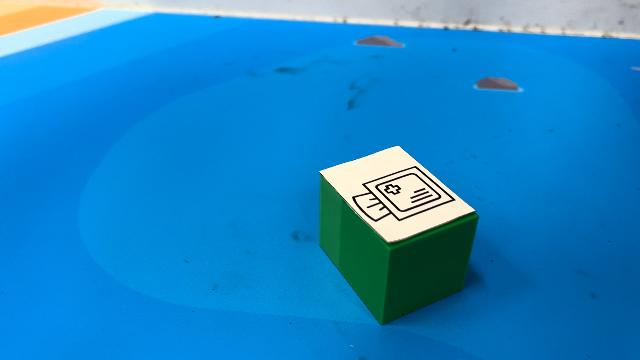napkin: (316, 143, 480, 325)
